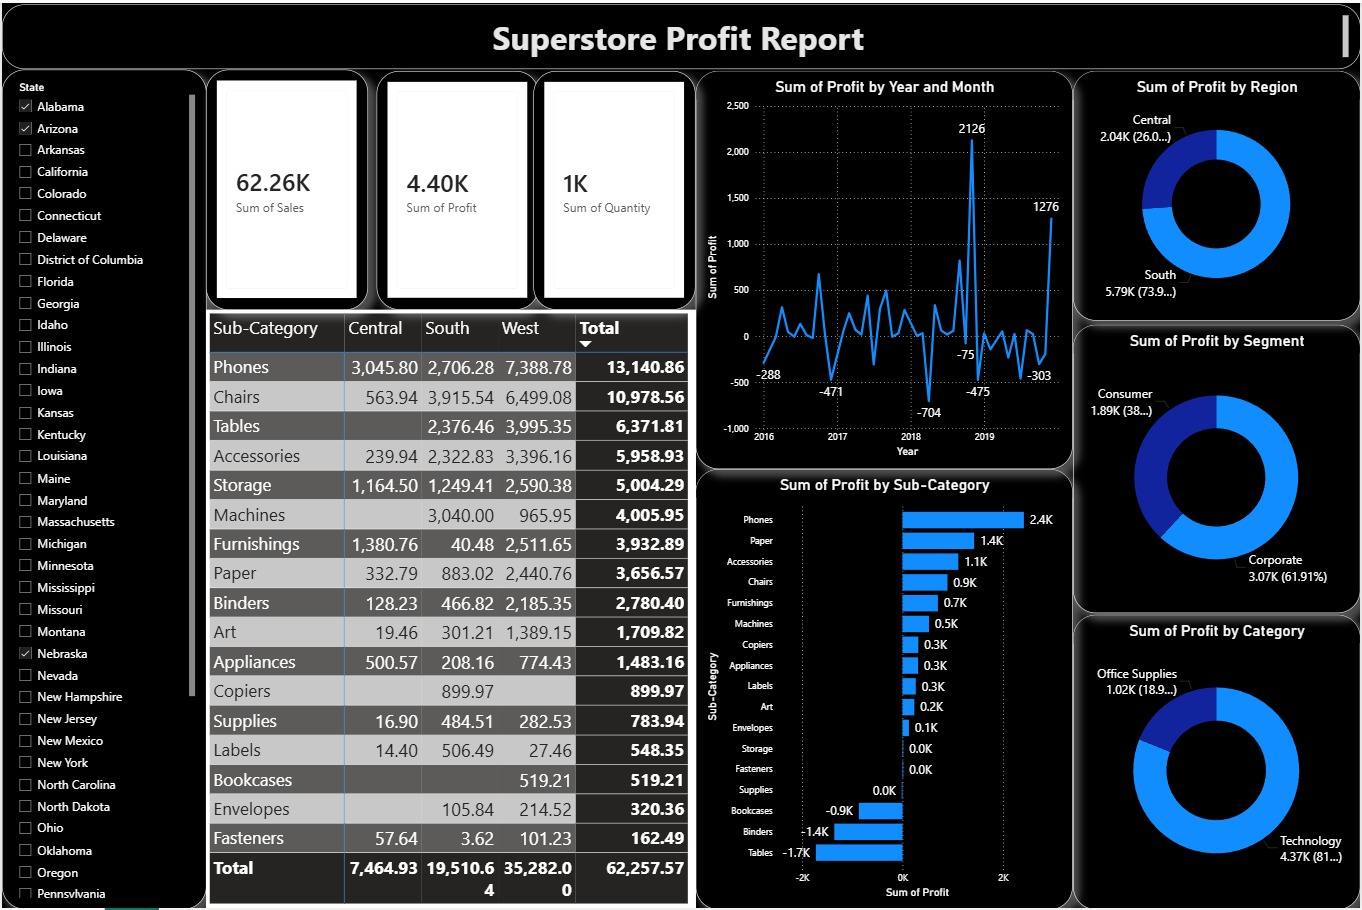

This screenshot's page, from the dashboard's own definition file:
{"tool":"powerbi","page":{"name":"Report","canvas":[1800,1200],"ordinal":0},"visuals":[{"type":"textbox","box":[0,2,1800,86],"z":0},{"type":"donutChart","fields":{"Category":["Orders.Category"],"Y":["Sum(Orders.Profit)"]},"box":[1419.8,810.4,380.3,390.3],"z":1000},{"type":"donutChart","fields":{"Y":["Sum(Orders.Profit)"],"Category":["Orders.Segment"]},"box":[1419.8,426.1,380.3,382.3],"z":2000},{"type":"donutChart","fields":{"Y":["Sum(Orders.Profit)"],"Category":["Orders.Region"]},"box":[1419.8,89.6,380.3,330.5],"z":3000},{"type":"barChart","fields":{"Category":["Orders.Sub-Category"],"Y":["Sum(Orders.Profit)"]},"box":[920,617.3,499.8,583.4],"z":4000},{"type":"lineChart","fields":{"Y":["Sum(Orders.Profit)"],"Category":["Orders.Order Date.Variation.Date Hierarchy.Year","Orders.Order Date.Variation.Date Hierarchy.Month"]},"box":[920,89.6,499.8,527.7],"z":5000},{"type":"slicer","fields":{"Values":["Orders.State"]},"box":[0,87.6,270.8,1113.1],"z":6000},{"type":"pivotTable","fields":{"Rows":["Orders.Sub-Category"],"Columns":["Orders.Region"],"Values":["Sum(Orders.Sales)"]},"box":[270.8,406.2,649.1,794.5],"z":7000},{"type":"cardVisual","fields":{"Data":["Sum(Orders.Sales)"]},"box":[270.8,87.6,215.1,318.6],"z":8000},{"type":"cardVisual","fields":{"Data":["Sum(Orders.Profit)"]},"box":[495.8,89.6,215.1,316.6],"z":9000},{"type":"cardVisual","fields":{"Data":["Sum(Orders.Quantity)"]},"box":[704.9,89.6,215.1,316.6],"z":10000}]}

Visuals, with their boxes in screenshot pixels (x1, y1, x2, y2), scaled from the page's 1800x1200 canvas onto the 1362x910 screenshot:
textbox: {"x1": 0, "y1": 2, "x2": 1361, "y2": 67}
donutChart - Orders.Category x Sum(Orders.Profit): {"x1": 1074, "y1": 615, "x2": 1361, "y2": 909}
donutChart - Sum(Orders.Profit) x Orders.Segment: {"x1": 1074, "y1": 323, "x2": 1361, "y2": 613}
donutChart - Sum(Orders.Profit) x Orders.Region: {"x1": 1074, "y1": 68, "x2": 1361, "y2": 319}
barChart - Orders.Sub-Category x Sum(Orders.Profit): {"x1": 696, "y1": 468, "x2": 1074, "y2": 909}
lineChart - Sum(Orders.Profit) x Orders.Order Date.Variation.Date Hierarchy.Year: {"x1": 696, "y1": 68, "x2": 1074, "y2": 468}
slicer - Orders.State: {"x1": 0, "y1": 66, "x2": 205, "y2": 909}
pivotTable - Orders.Sub-Category x Orders.Region: {"x1": 205, "y1": 308, "x2": 696, "y2": 909}
cardVisual - Sum(Orders.Sales): {"x1": 205, "y1": 66, "x2": 368, "y2": 308}
cardVisual - Sum(Orders.Profit): {"x1": 375, "y1": 68, "x2": 538, "y2": 308}
cardVisual - Sum(Orders.Quantity): {"x1": 533, "y1": 68, "x2": 696, "y2": 308}
